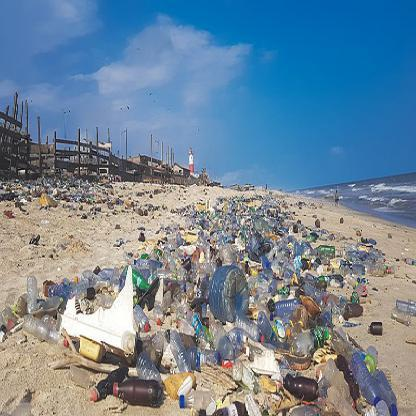Glass: (116, 377, 164, 408)
Plastic: (211, 264, 252, 325), (353, 351, 386, 409), (21, 317, 73, 347), (89, 367, 129, 402), (281, 371, 324, 400), (24, 273, 38, 315)
